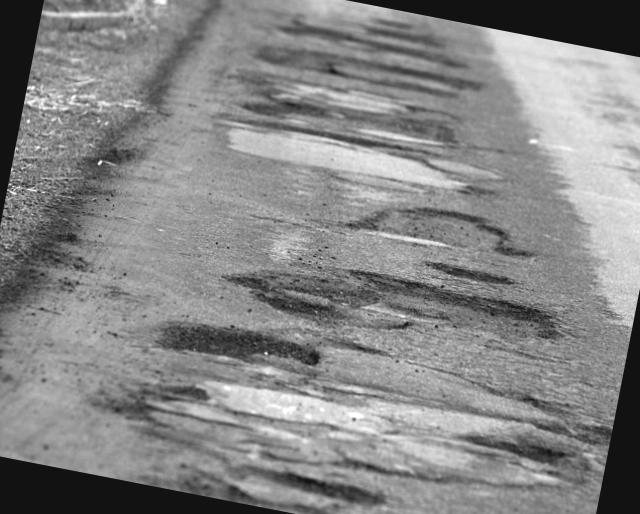Pothole: (117, 312, 582, 514), (186, 0, 479, 201), (222, 219, 576, 370), (350, 174, 548, 272)
